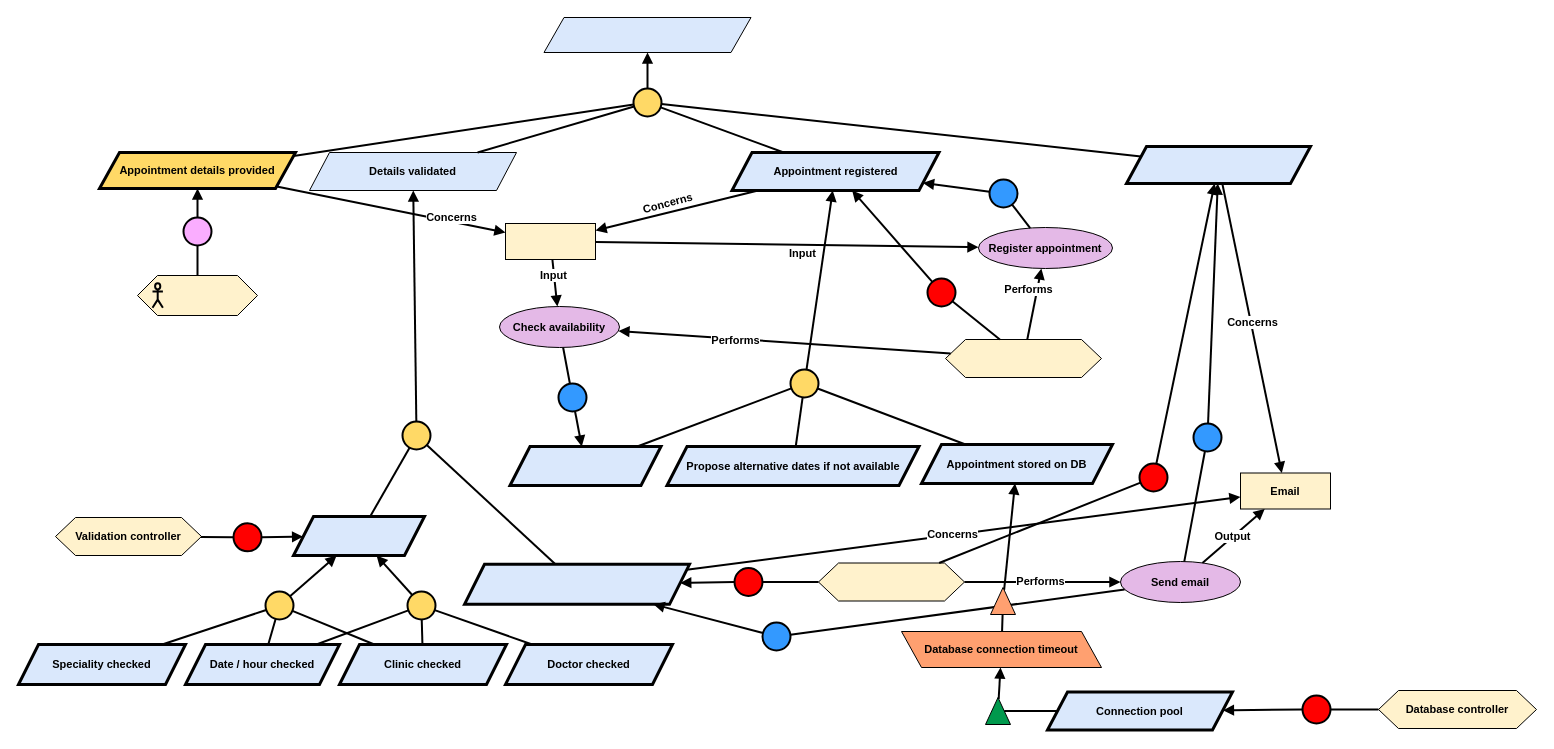
This 1554x749 diagram has some shape labels left out. The centre of each missing label's shape, as x and y in pixels:
Appointment: the point at 550,241
Appointment controller: the point at 1023,358
Availibility checked: the point at 585,465
Details ok: the point at 359,535
Message controller: the point at 891,581
Patient: the point at 197,295
Patient notified: the point at 1218,164
Patient notified if details not ok: the point at 576,583
Schedule appointment: the point at 647,34
